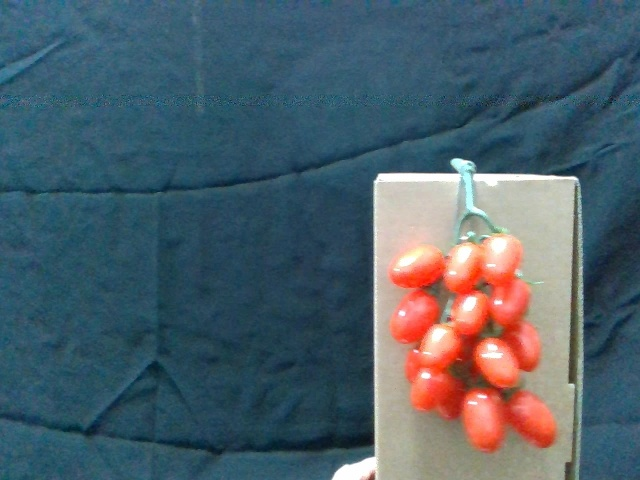tomato: (506, 389, 561, 450), (458, 387, 508, 454), (470, 337, 522, 392), (390, 294, 440, 346), (418, 322, 467, 373), (389, 247, 445, 290), (497, 318, 541, 372), (407, 366, 456, 413), (445, 241, 486, 297), (485, 231, 526, 284), (489, 282, 532, 329), (452, 290, 493, 339)
